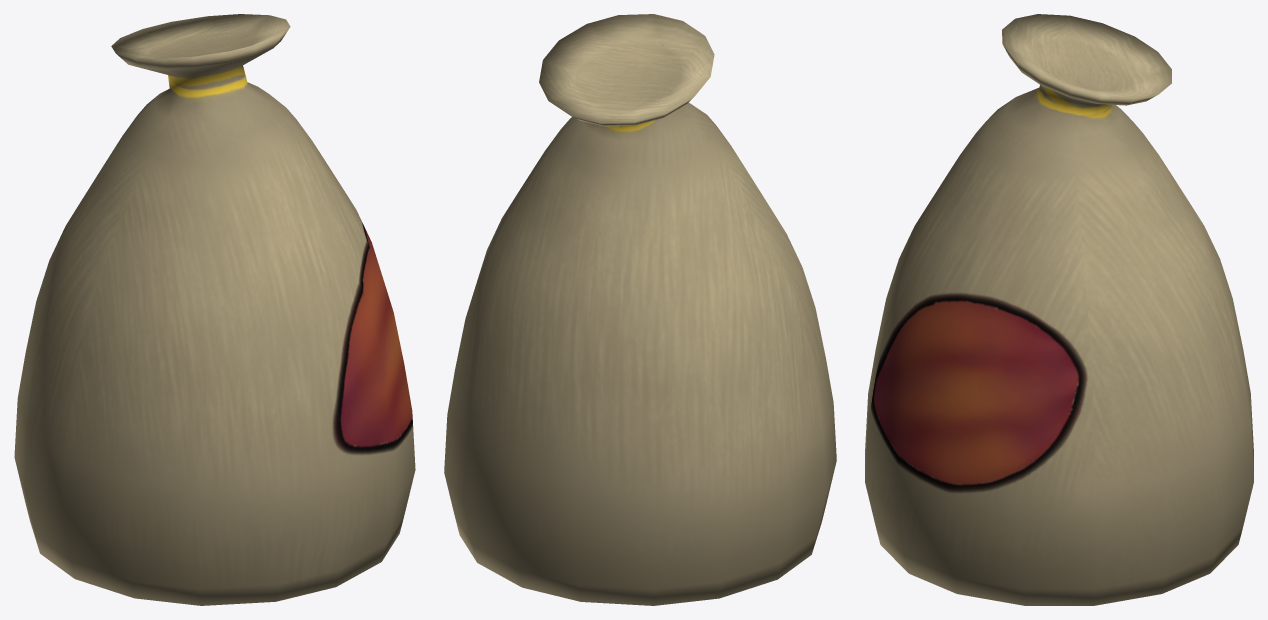
Rendered from Model_TexturaSacoFechadoCacau_v1.fbx.
The picture shows the model from 3 angles, left to right: view 1: azimuth 30°, elevation 25°; view 2: azimuth 150°, elevation 25°; view 3: azimuth 270°, elevation 25°; orthographic projection. The views are drawn at different scales.
Parts seen in each view (by area): view 1: Circle.007; view 2: Circle.007; view 3: Circle.007.
Boxes of the visible parts, x1,y1,x2,y2 form: Circle.007: (14,14,415,605); Circle.007: (444,14,836,605); Circle.007: (865,14,1253,605).
Size of the model in its own units: 214 by 299 by 214.
